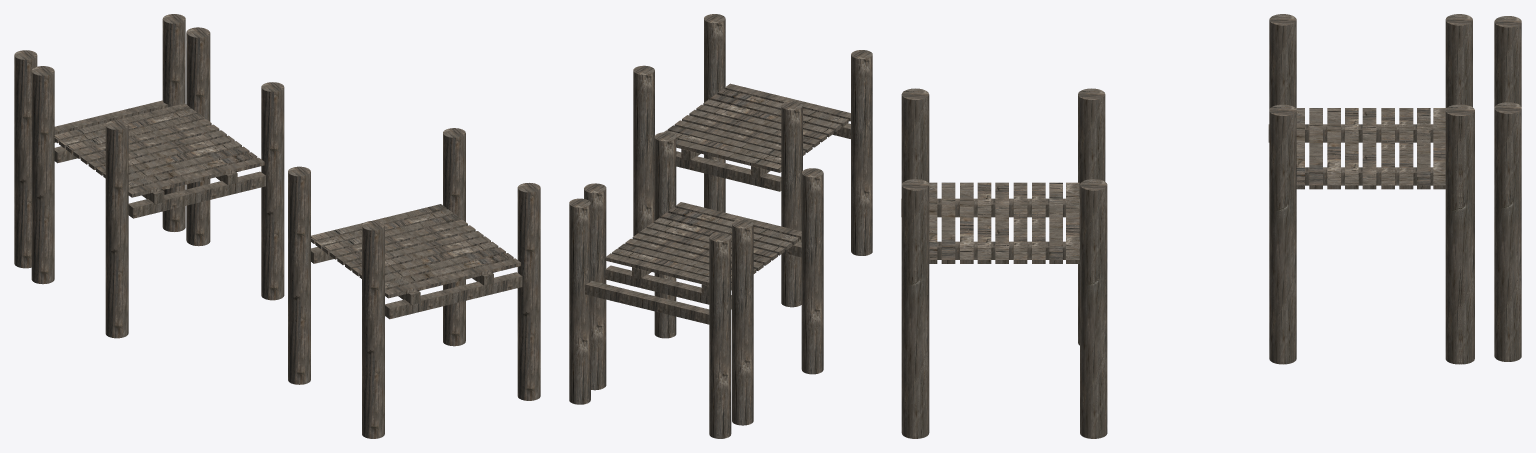
The model's file is palo.fbx.
3 renders of one model, left to right at view 1: azimuth 30°, elevation 25°; view 2: azimuth 150°, elevation 25°; view 3: azimuth 270°, elevation 25°, orthographic. The views are drawn at different scales.
Visible parts, largest first — view 1: marco.002, marco, piso bien, Cylinder.003, Cylinder.001, Cylinder.002, marco.001, Cube, Cube.006; view 2: marco.002, marco, piso bien, Cylinder.003, Cylinder.002, marco.001, Cube, Cylinder.001, Cube.006; view 3: marco.002, marco, piso bien, Cylinder.002, Cylinder.001, Cylinder.003.
Boxes of the visible parts, box(x1,y1,x2,y2) form: marco.002: box(288, 128, 540, 438); marco: box(31, 27, 284, 338); piso bien: box(54, 106, 264, 204); Cylinder.003: box(14, 50, 37, 268); Cylinder.001: box(187, 28, 210, 246); Cylinder.002: box(162, 14, 185, 231); marco.001: box(54, 100, 168, 142); Cube: box(54, 103, 190, 143); Cube.006: box(66, 113, 203, 153); marco.002: box(633, 14, 872, 307); marco: box(584, 132, 823, 425); piso bien: box(610, 202, 801, 295); Cylinder.003: box(709, 232, 731, 438); Cylinder.002: box(569, 198, 590, 404); marco.001: box(585, 280, 709, 324); Cube: box(605, 253, 731, 290); Cylinder.001: box(585, 183, 606, 386); Cube.006: box(618, 244, 731, 276); marco.002: box(901, 88, 1107, 438); marco: box(1269, 14, 1474, 364); piso bien: box(1268, 108, 1446, 189); Cylinder.002: box(1494, 102, 1521, 361); Cylinder.001: box(1445, 104, 1472, 364); Cylinder.003: box(1494, 16, 1521, 107).
Size of the model in its own units: 837 by 637 by 1359.
Materials: 3 (3 with a texture image).
